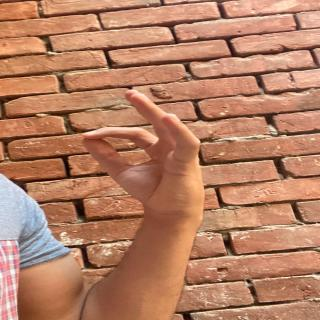Space: (76, 82, 216, 208)
